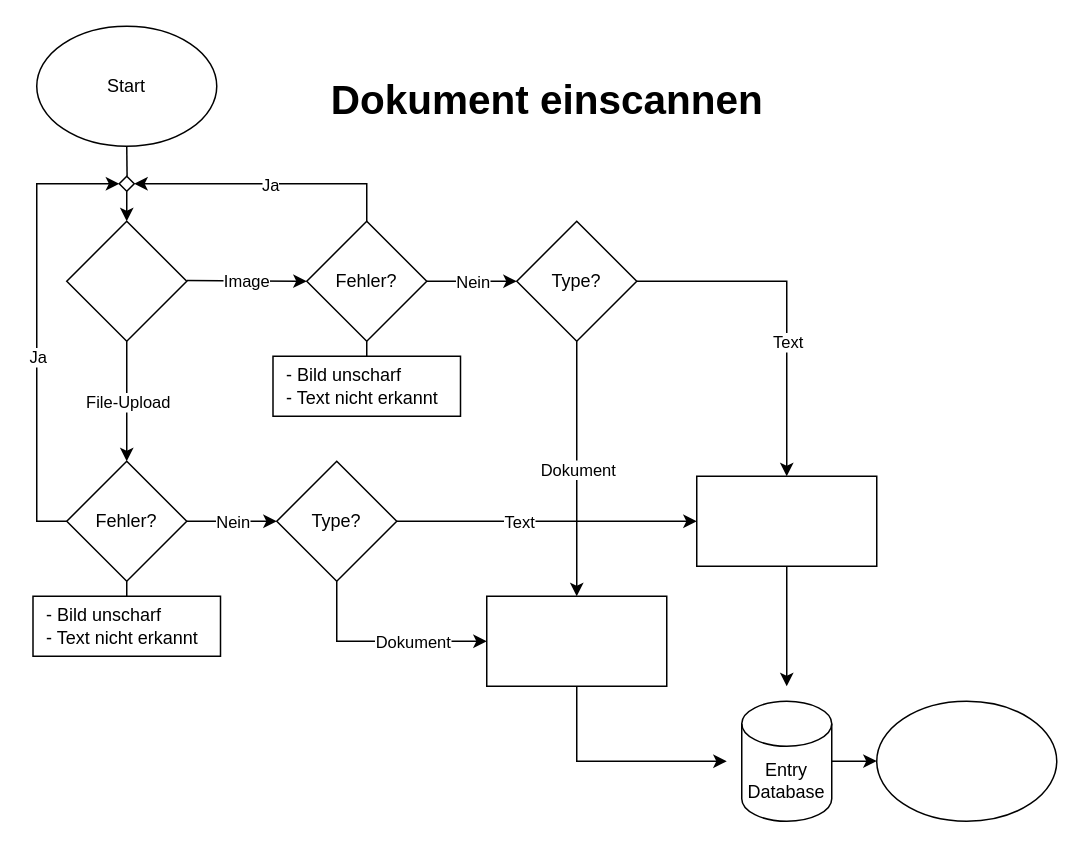
The diagram is 1083 pixels wide and 848 high, and some of its shapes have lost their labels. Each missing label, with the centre of its shape:
"End" belongs at point 966,760.
"New Document Entry" belongs at point 576,640.
"New Text Entry" belongs at point 786,520.
"Source?" belongs at point 126,280.
